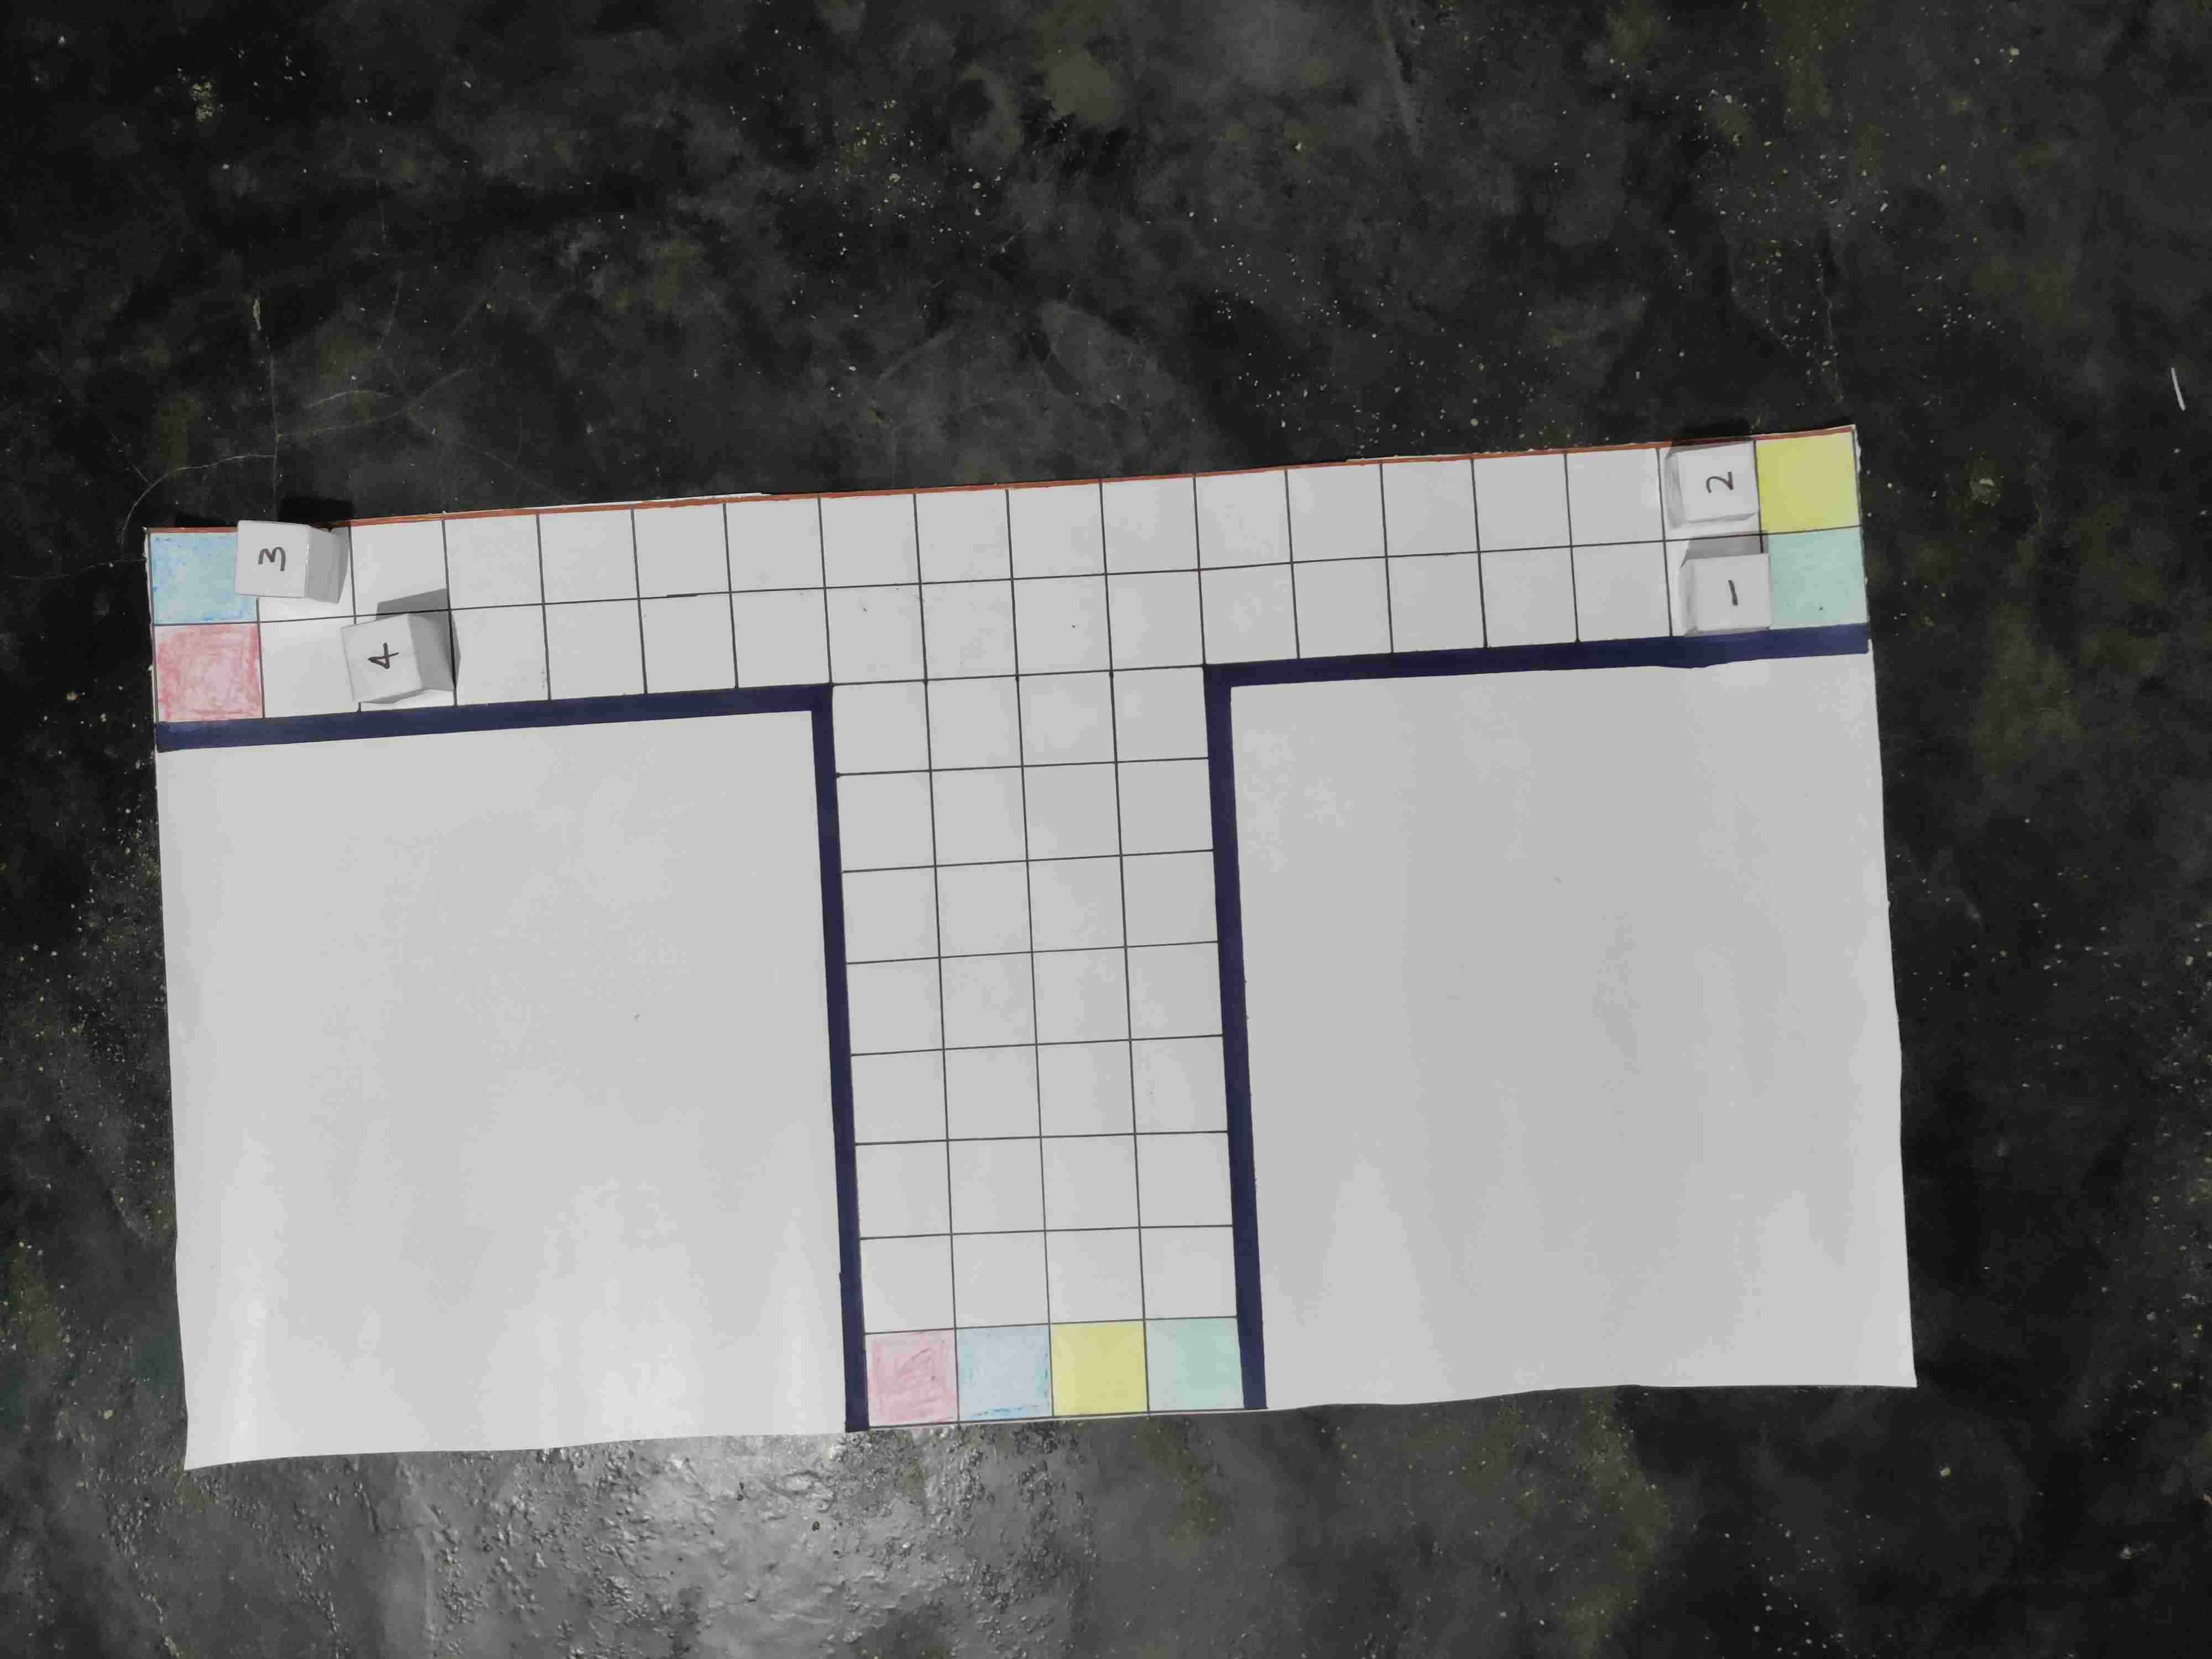arena: (152, 422, 1902, 1432)
bot: (1676, 439, 1764, 525), (338, 612, 416, 706), (1686, 552, 1775, 629), (239, 519, 312, 592)
